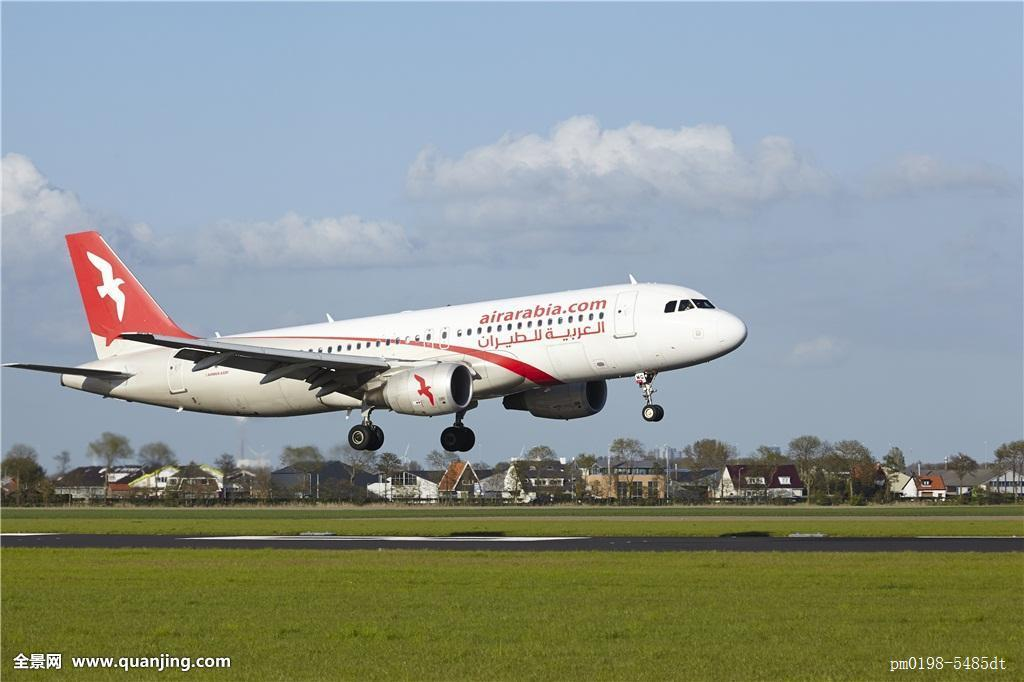airplane: (10, 228, 762, 463)
